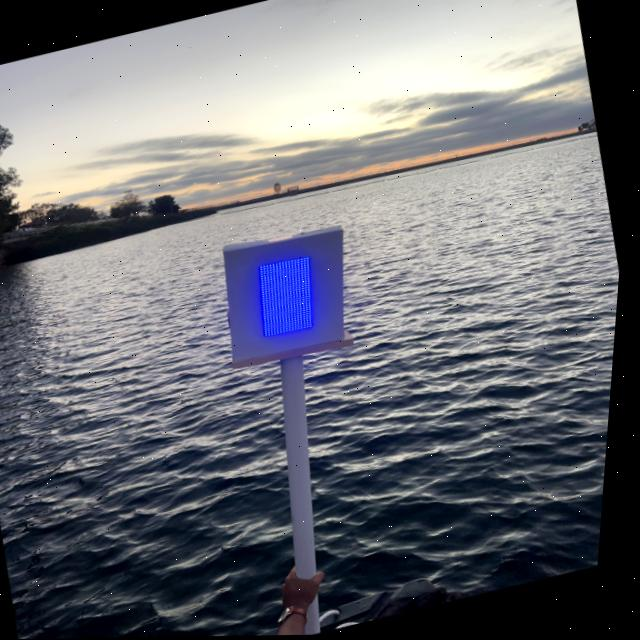led: (236, 233, 347, 356)
